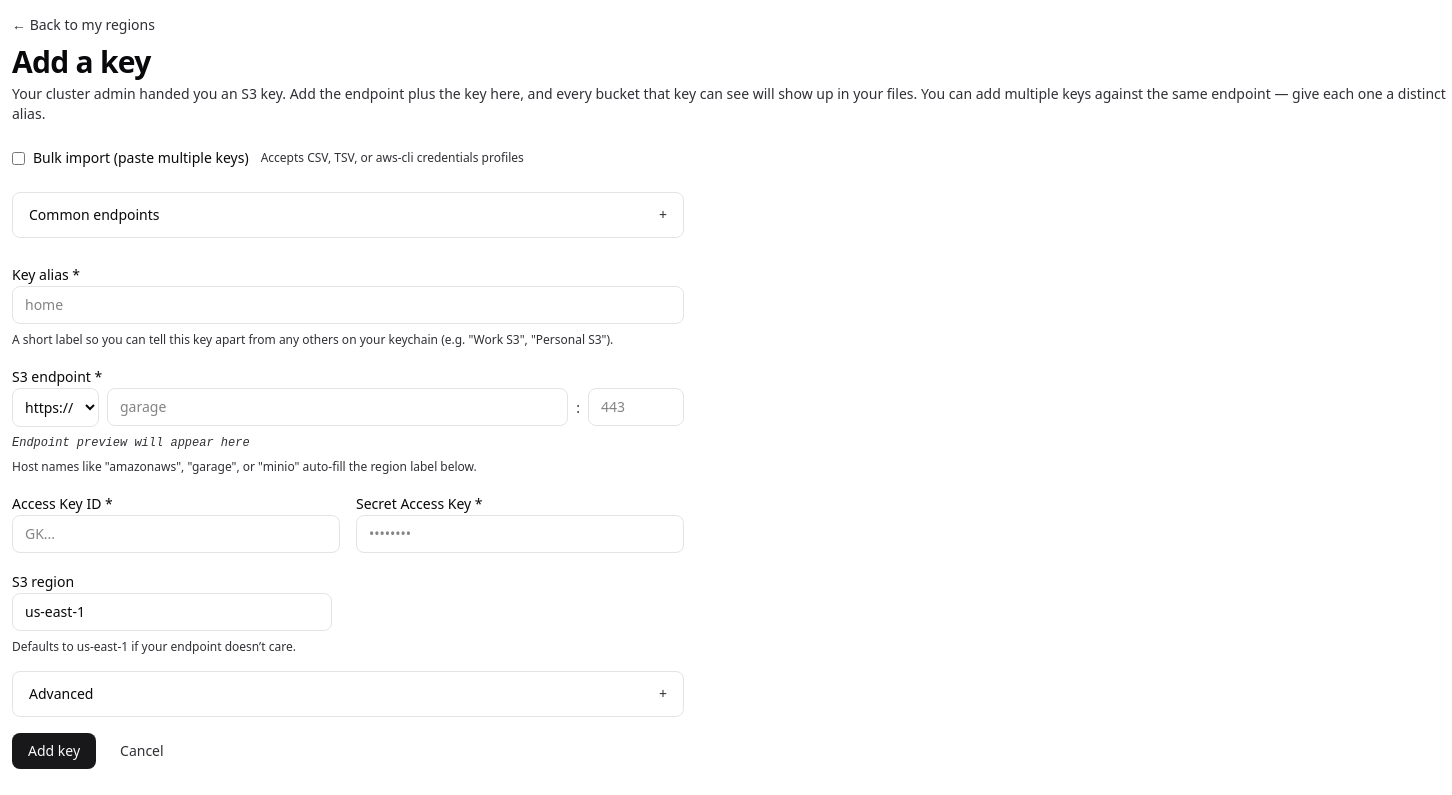
it: AddKeyPage (/files/keys/new) › disables the virtual-host toggle when the endpoint host is an IP
The width and height of the screenshot is (1452, 795).
Select "http://" in the dropdown named "Protocol" at [56, 408], box [12, 388, 99, 427]
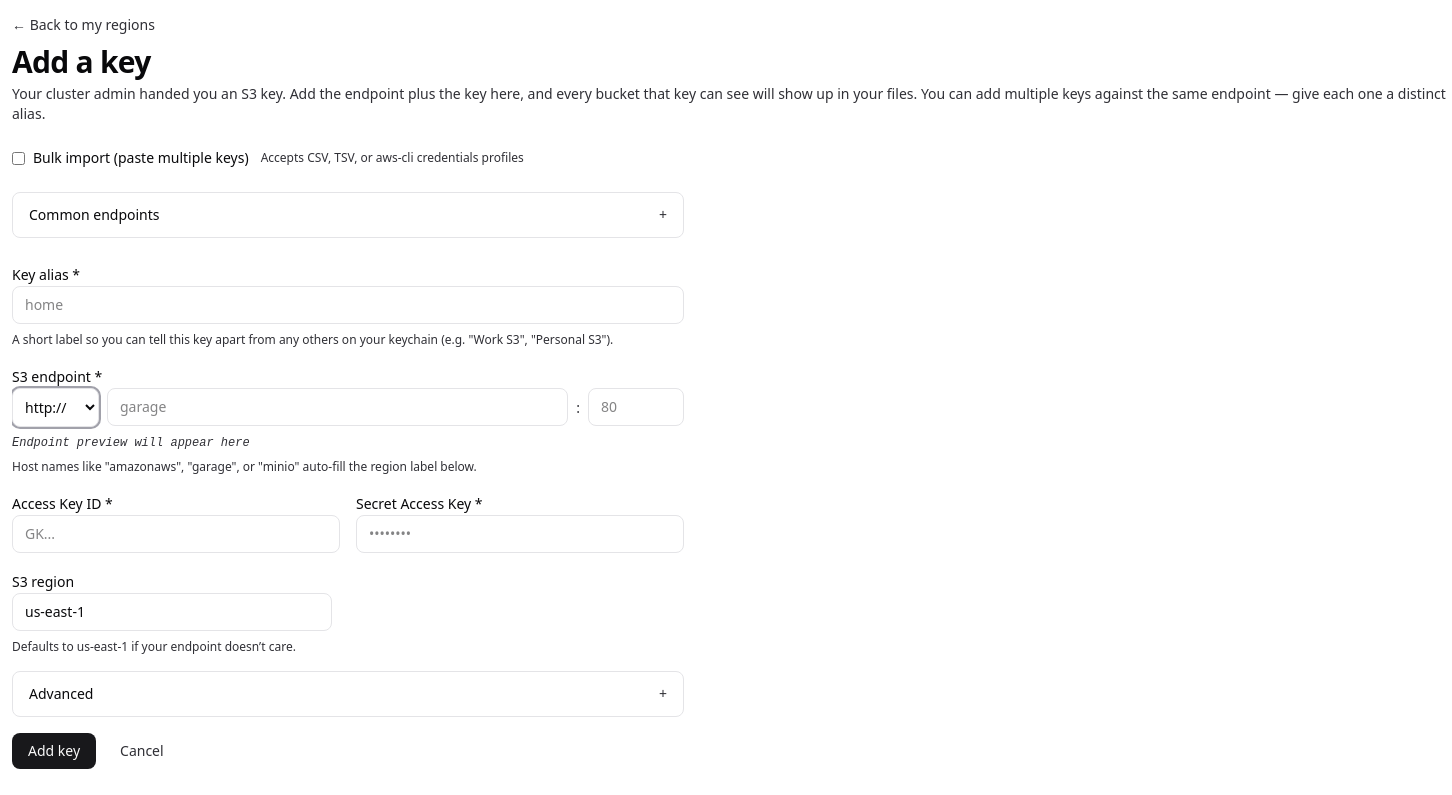
Type "10.1.7.10" into the field named "Host" at [338, 407], box [107, 388, 568, 426]
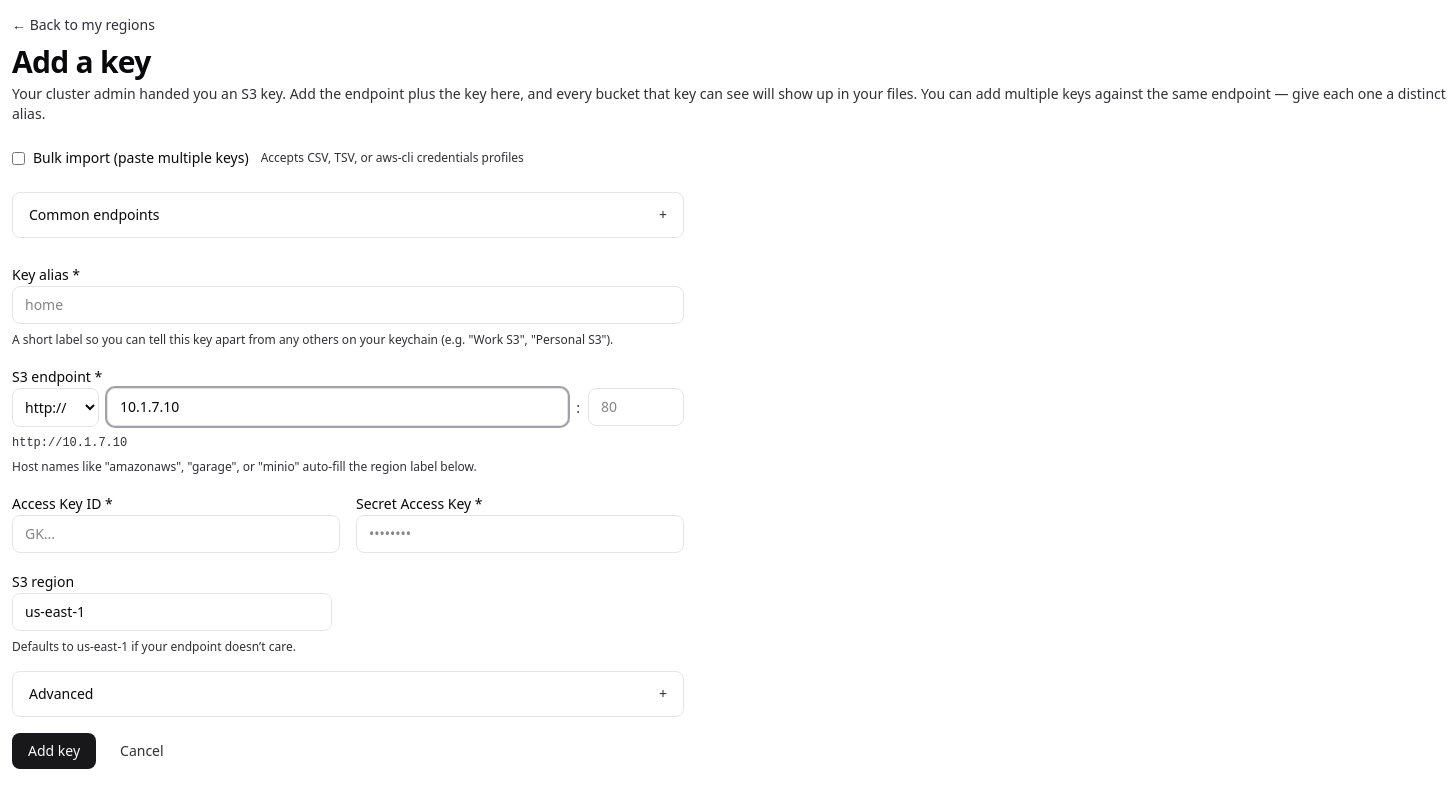
Type "3902" into the field named "Port" at [636, 407], box [588, 388, 684, 426]
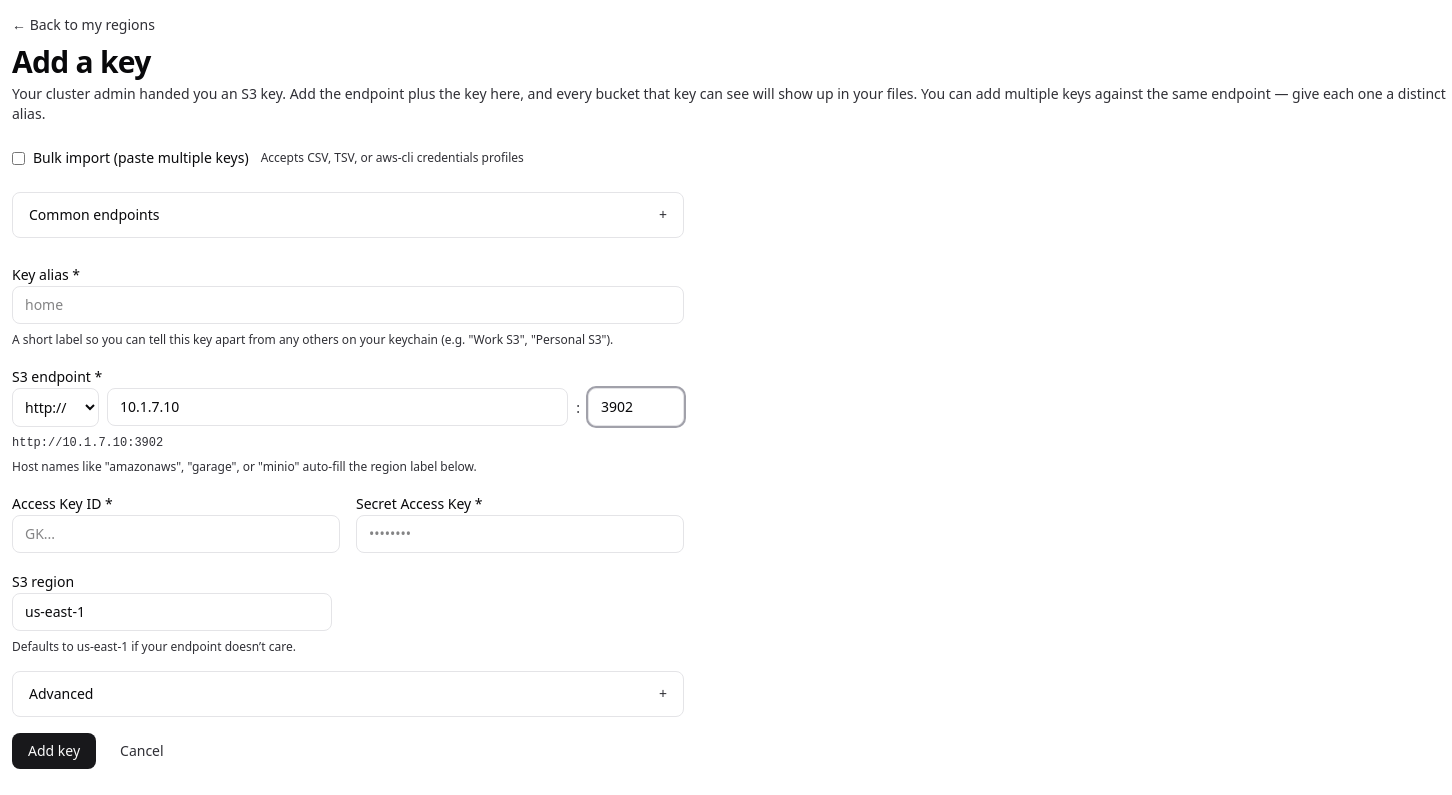
Click the button with test id "toggle-advanced" at [61, 694], box [13, 672, 683, 716]
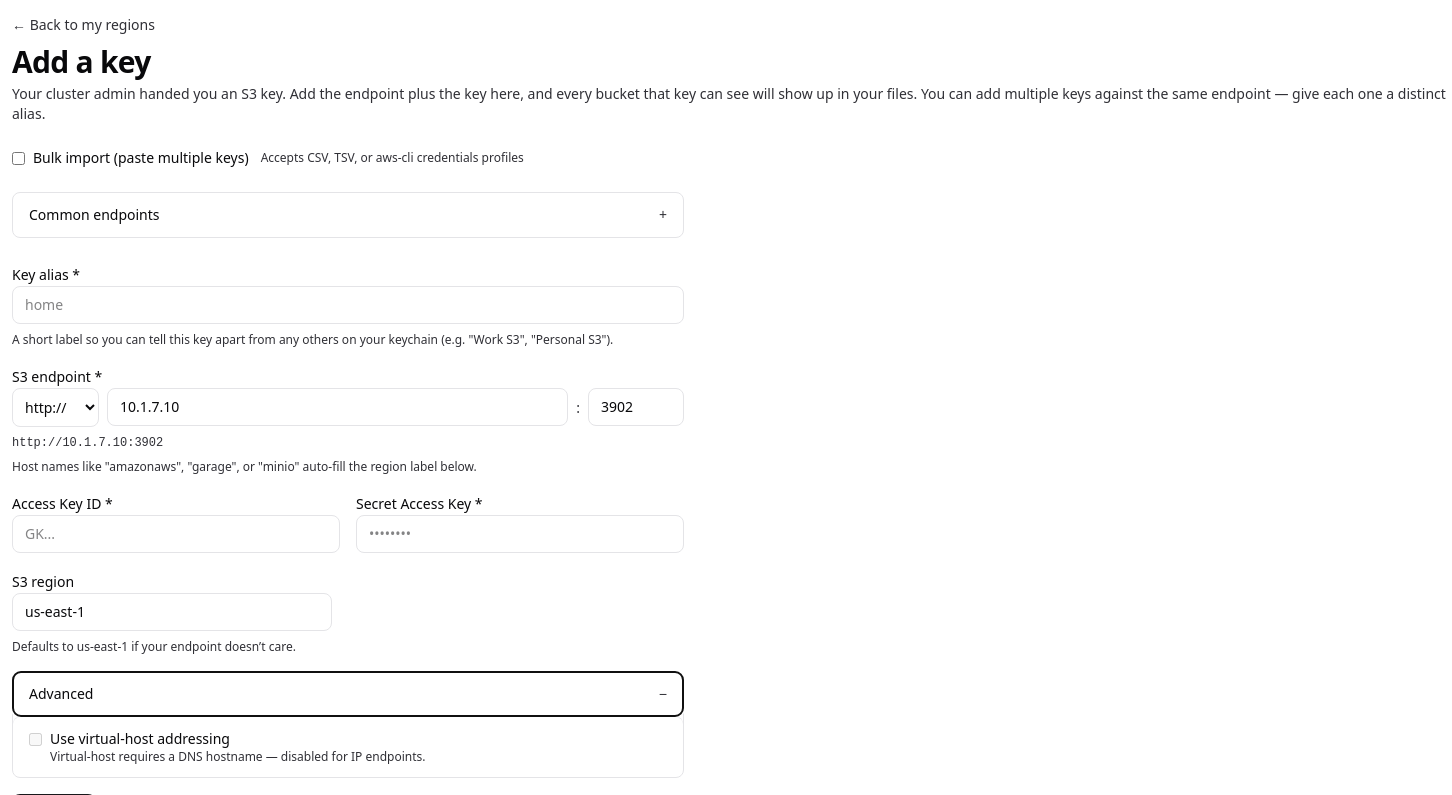
Result: the checkbox with test id "virtual-host-toggle" is disabled at [29, 733, 42, 746]
